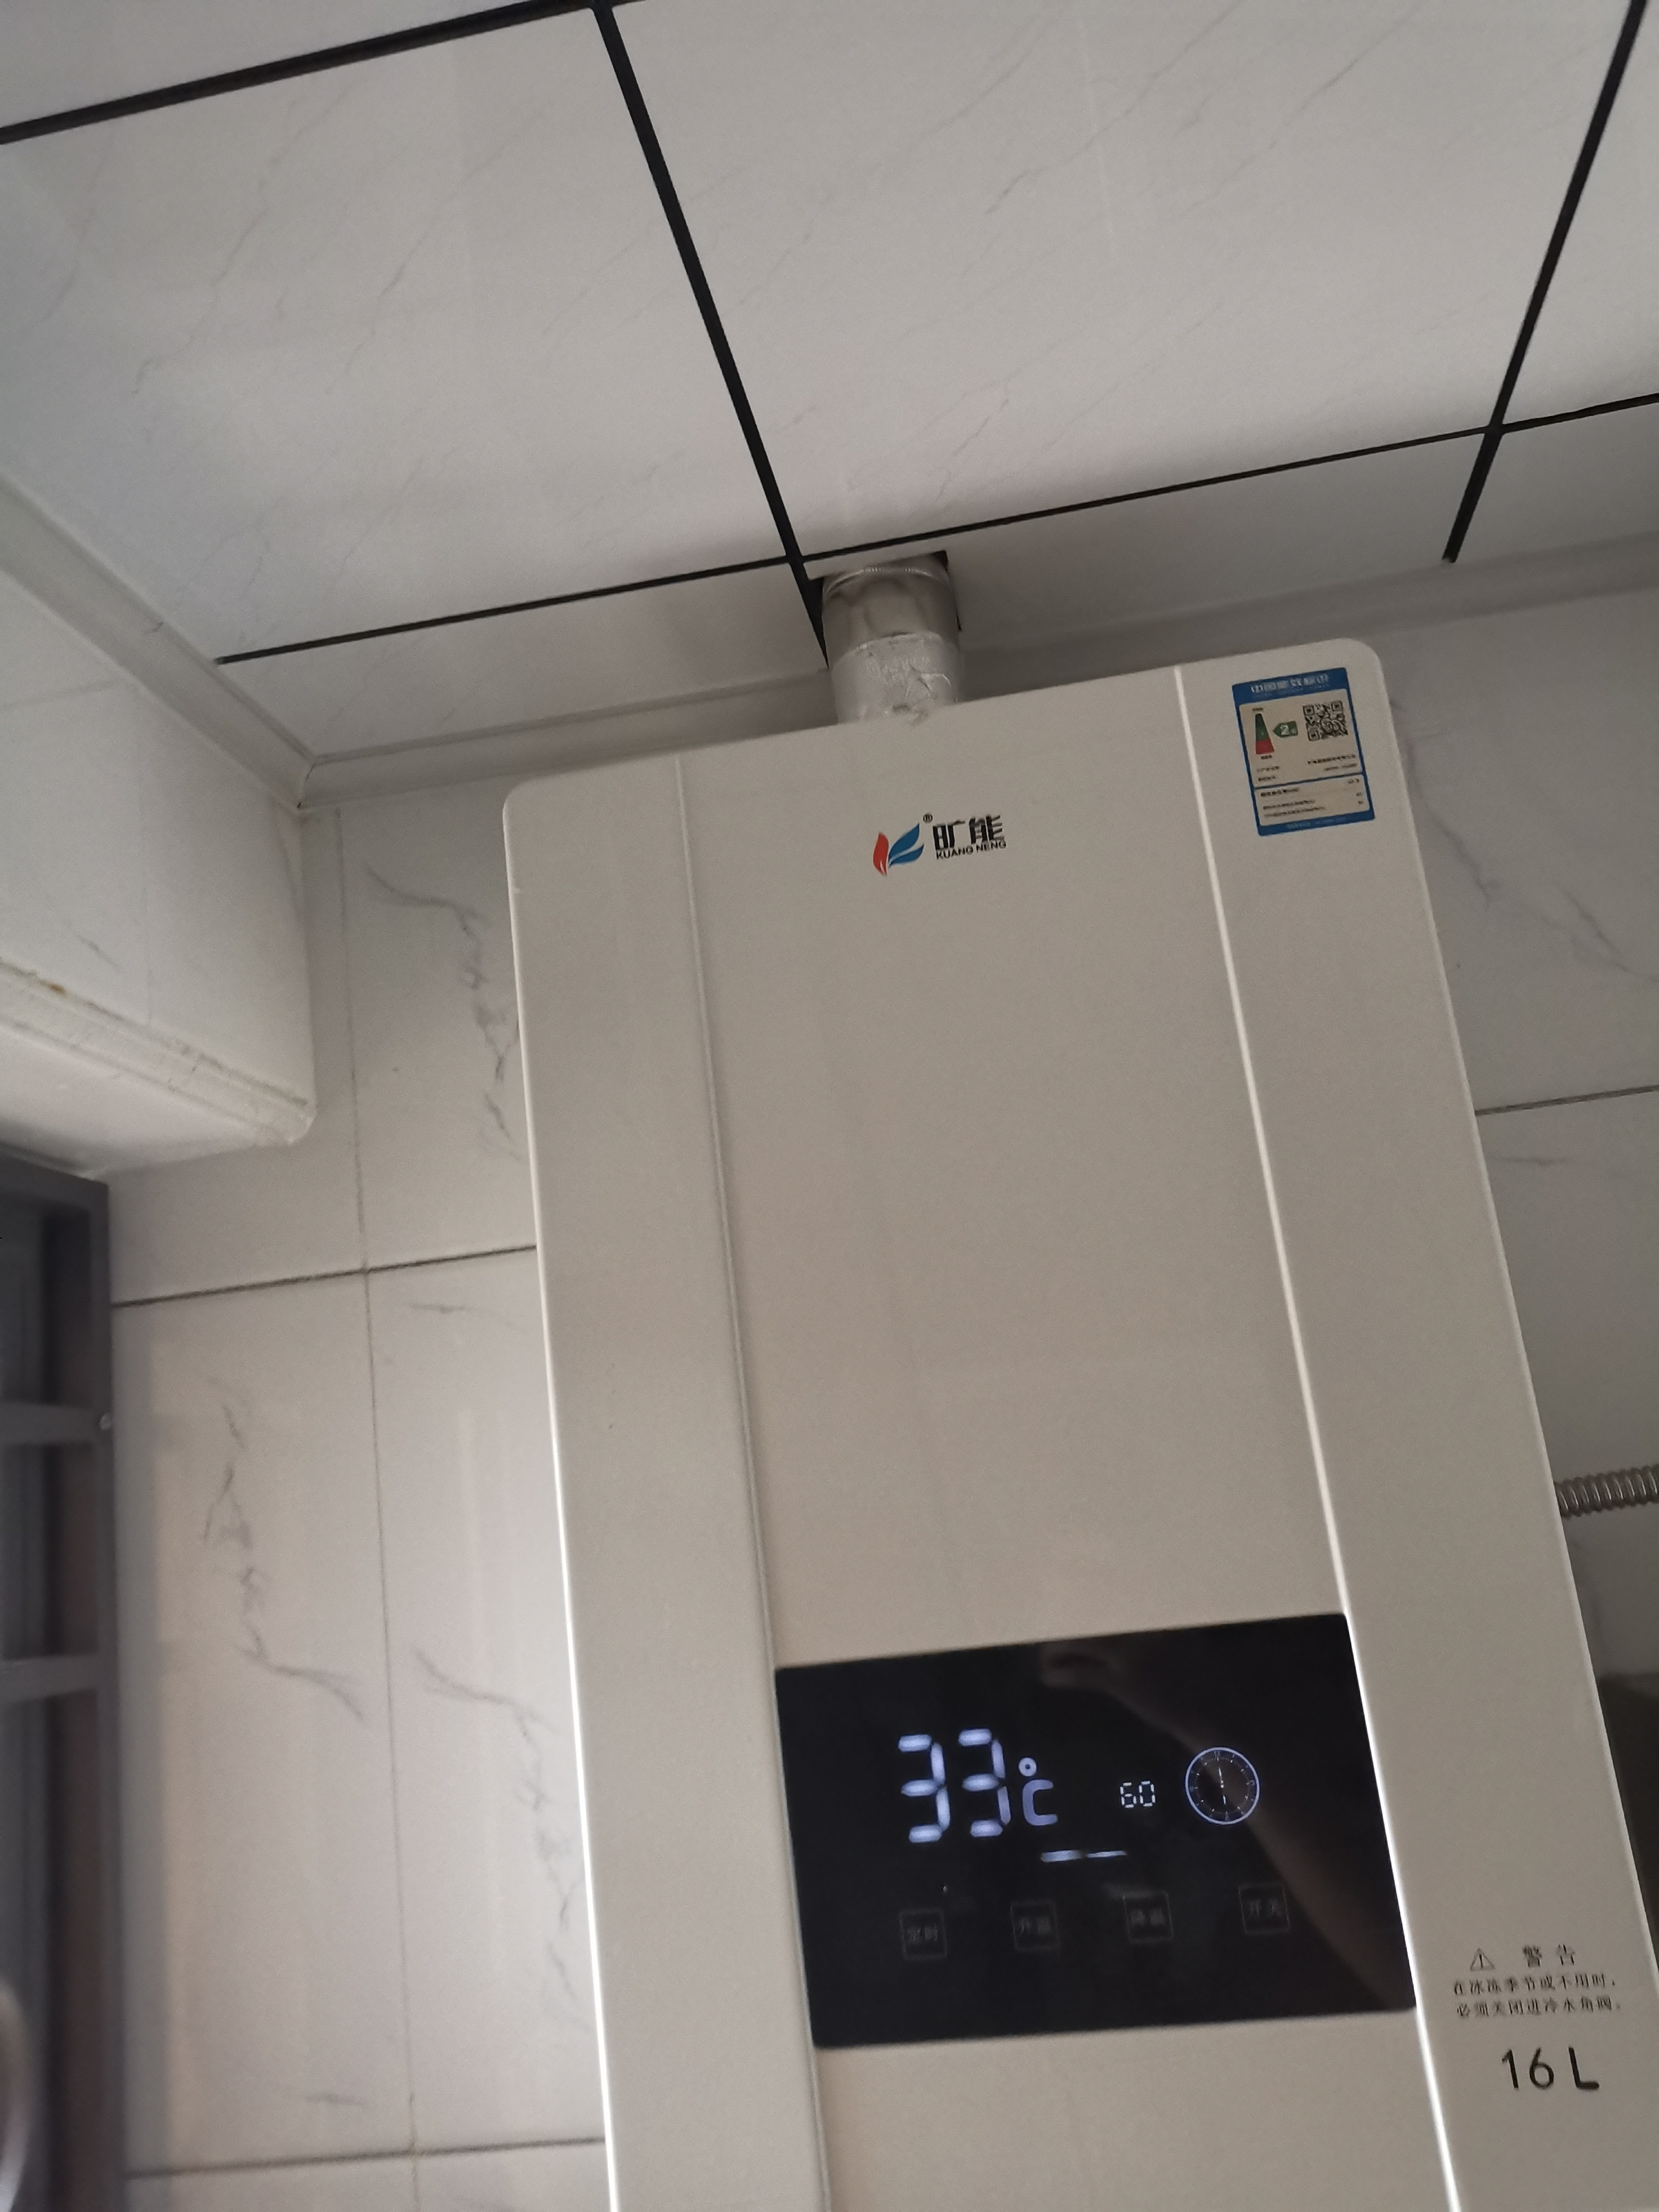loudou: (838, 808, 1054, 888)
